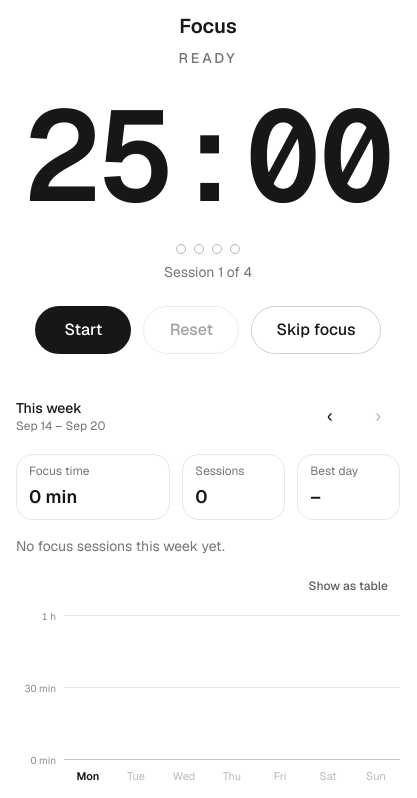
it: pause, resume and reset › freezes while paused and continues from the same point
Click the button "Start".
click(83, 330)  # box [35,306,131,354]
Wait 300000 ms
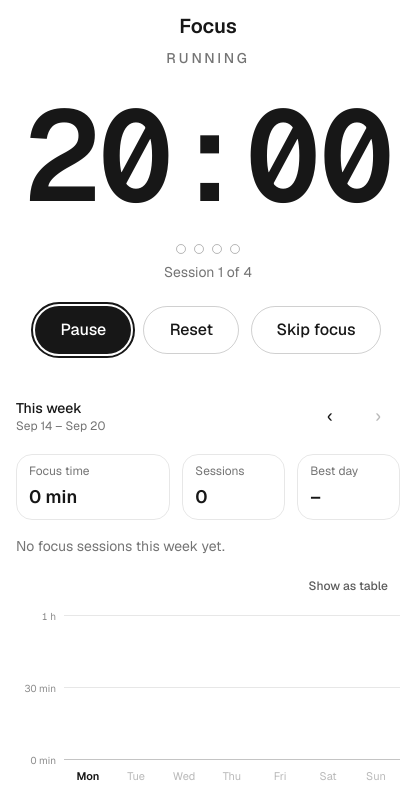
Click the button "Pause".
click(83, 330)  # box [35,306,131,354]
Wait 600000 ms
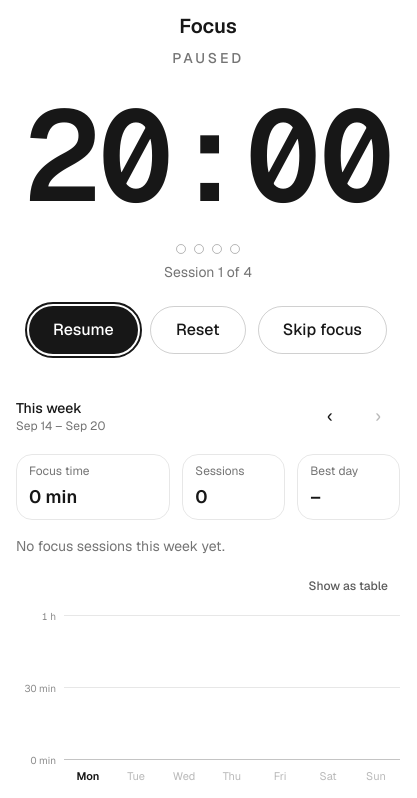
Check: the text "20:00" is shown, box [24,92,392,220]
Click the button "Resume".
click(83, 330)  # box [29,306,138,354]
Wait 60000 ms
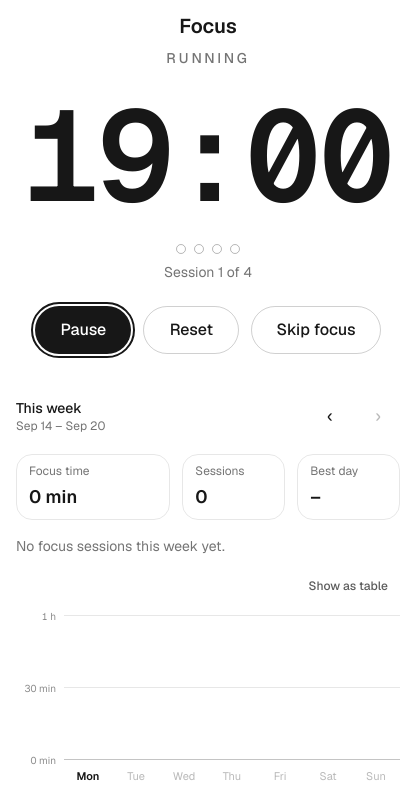
Check: the text "19:00" is shown, box [24,92,392,220]
